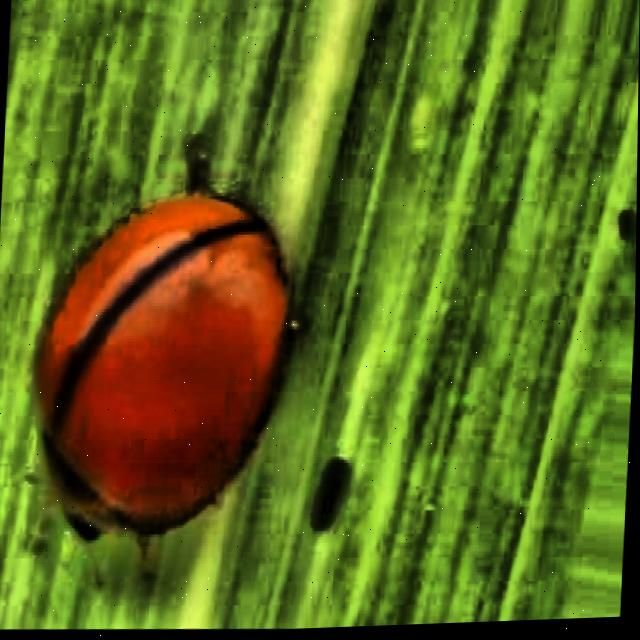Ladybug: (0, 78, 384, 640)
